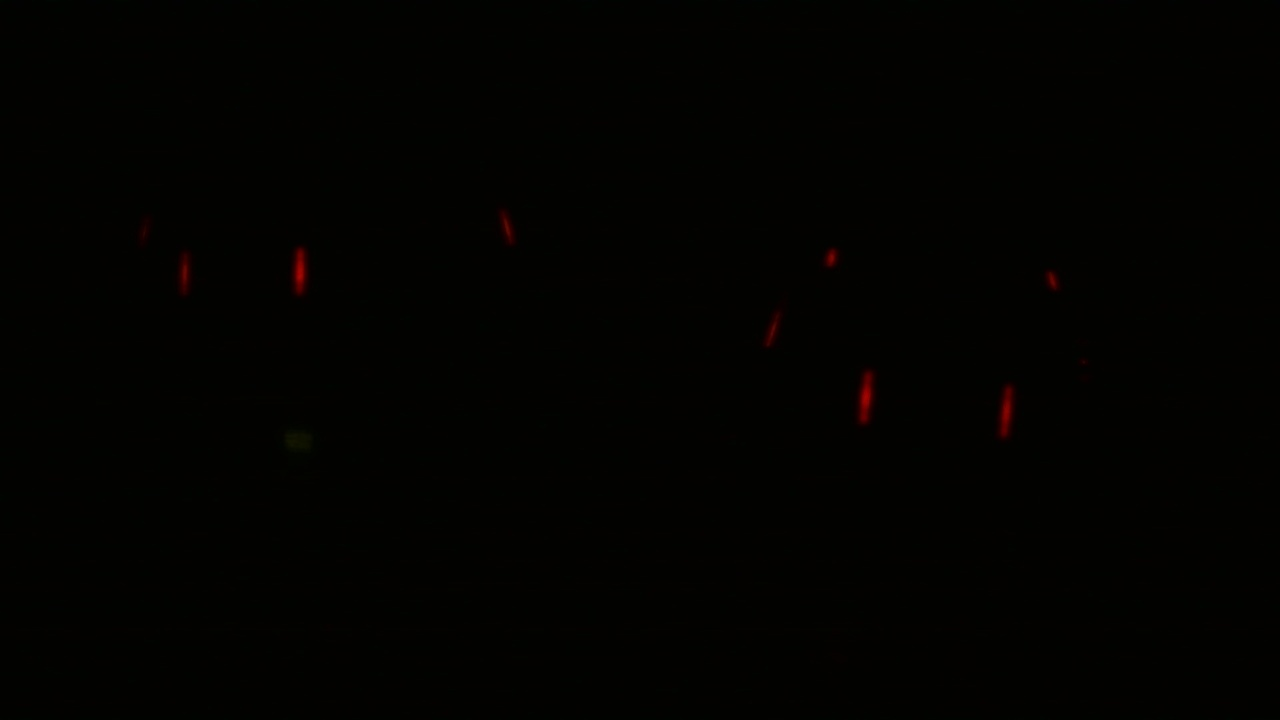pair1: (852, 366, 1018, 444), (178, 241, 308, 297)
